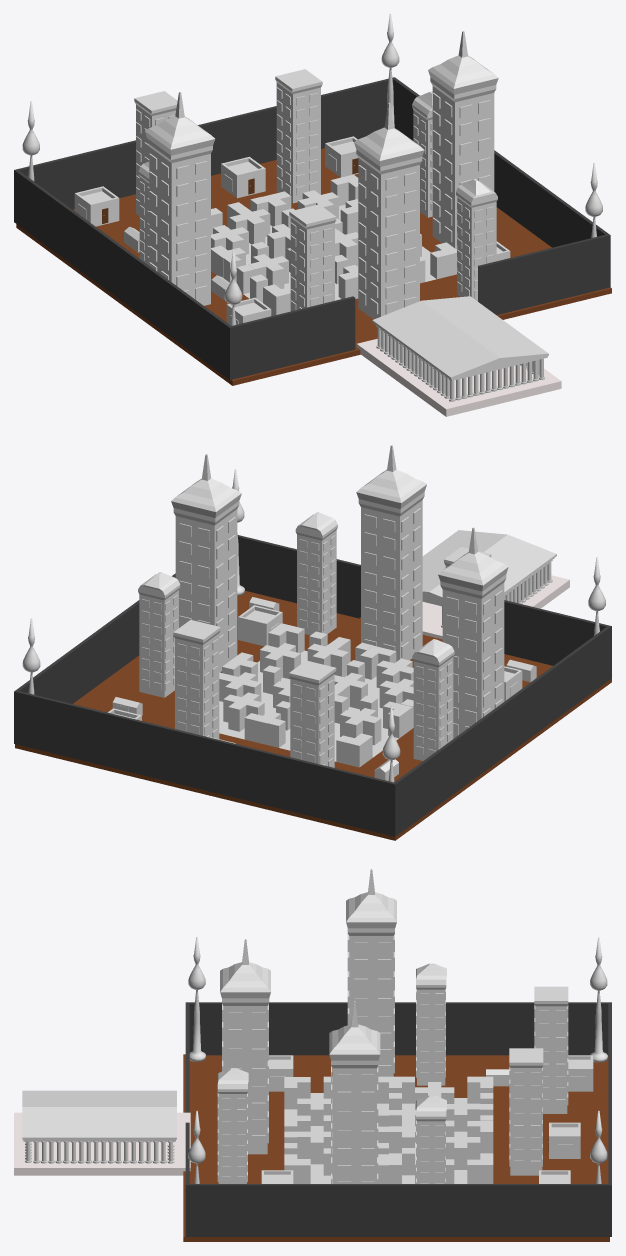
3 views of the same model, one above another, from view 1: azimuth 30°, elevation 25°; view 2: azimuth 150°, elevation 25°; view 3: azimuth 270°, elevation 25° (orthographic).
Visible parts, largest first — view 1: Ground, Cylinder.005, Plane, Building.005, Building.003, Building.004, Building 3.002, Building 3.001, Building.002, Building.000, Building 3, House 2.004 (+8 smaller); view 2: Ground, Plane, Building.005, Building.003, Building.004, Cylinder.005, Building 3.002, Building.002, Building.000, Building.001, Building 3, House 2.002 (+3 smaller); view 3: Ground, Cylinder.005, Plane, Building.004, Building.003, Building.005, Building 3.002, Building 3, Building.001, Building.002, Building.000, House 2.004 (+6 smaller).
Part boxes in pixels (x1,y1,x2,y2): Ground: (14, 77, 611, 385); Cylinder.005: (356, 296, 561, 416); Plane: (211, 174, 457, 315); Building.005: (354, 103, 424, 319); Building.003: (145, 92, 215, 305); Building.004: (428, 31, 498, 249); Building 3.002: (275, 69, 322, 203); Building 3.001: (289, 204, 336, 311); Building.002: (456, 179, 497, 301); Building.000: (412, 91, 432, 217); Building 3: (134, 91, 177, 215); House 2.004: (221, 156, 265, 198); Ground: (14, 535, 611, 840); Plane: (219, 623, 413, 767); Building.005: (356, 445, 426, 661); Building.003: (438, 527, 508, 738); Building.004: (171, 454, 241, 672); Cylinder.005: (422, 530, 569, 639); Building 3.002: (173, 620, 220, 738); Building.002: (295, 512, 337, 635); Building.000: (138, 572, 180, 697); Building.001: (412, 639, 454, 760); Building 3: (289, 660, 336, 767); House 2.002: (238, 605, 282, 646); Ground: (183, 1002, 611, 1241); Cylinder.005: (14, 1090, 190, 1175); Plane: (284, 1076, 493, 1183); Building.004: (329, 1001, 380, 1183); Building.003: (346, 869, 396, 1076); Building.005: (220, 939, 270, 1154); Building 3.002: (509, 1048, 543, 1175); Building 3: (534, 986, 568, 1113); Building.001: (416, 963, 446, 1085); Building.002: (217, 1068, 248, 1183); Building.000: (416, 1095, 446, 1183); House 2.004: (548, 1122, 580, 1158).
Bounding box in the file's own units: 35437 × 18984 × 48880.
